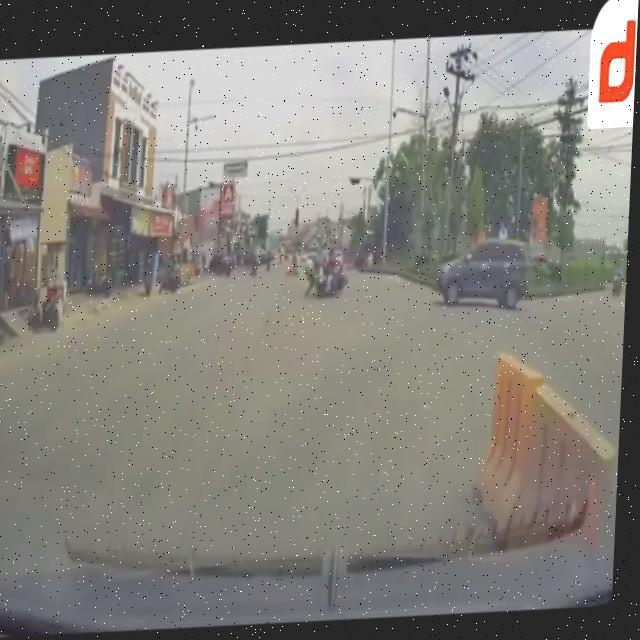multiple_accident: (277, 227, 379, 323)
